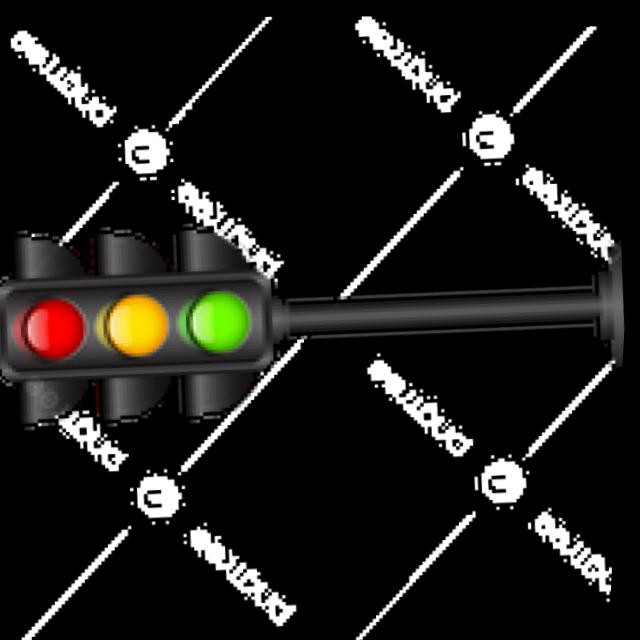green_light: (161, 228, 319, 373)
red_light: (0, 267, 111, 389)
yellow_light: (84, 246, 184, 403)
